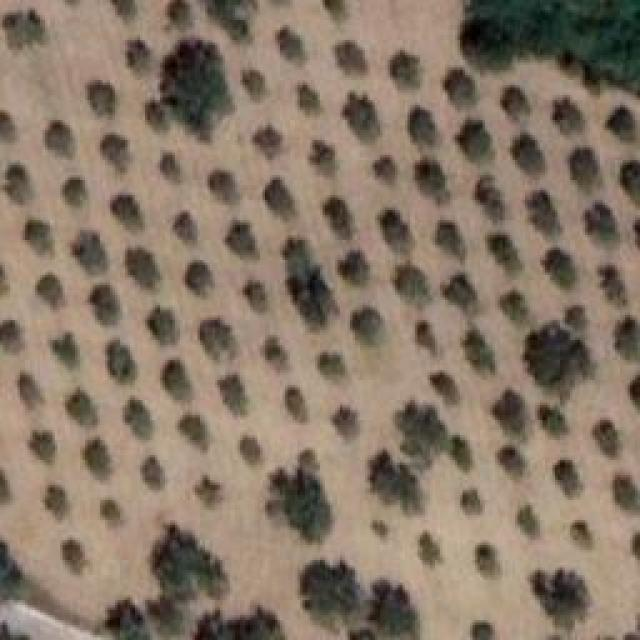Tree: (462, 0, 640, 95), (163, 40, 234, 141), (268, 450, 333, 542), (153, 525, 229, 602), (283, 238, 337, 326), (525, 323, 594, 390), (300, 560, 360, 629), (395, 400, 448, 465), (535, 570, 591, 631), (194, 607, 287, 640), (368, 582, 418, 637), (470, 170, 512, 229), (95, 595, 149, 639), (207, 0, 256, 39), (415, 158, 451, 205), (3, 10, 46, 48), (343, 93, 377, 141), (525, 192, 560, 237), (200, 318, 236, 361), (455, 120, 491, 163), (370, 450, 399, 503), (528, 495, 559, 542), (493, 390, 524, 437), (73, 233, 108, 274), (513, 133, 547, 175), (570, 148, 603, 191), (443, 275, 477, 315), (487, 235, 522, 273), (443, 67, 477, 106), (128, 250, 161, 290), (350, 307, 383, 347), (585, 203, 616, 245), (108, 340, 138, 382), (323, 198, 353, 240), (408, 105, 438, 147), (225, 220, 258, 258), (465, 328, 494, 371), (263, 178, 293, 218), (383, 210, 409, 256), (90, 285, 119, 325), (397, 263, 425, 304), (217, 375, 245, 415), (82, 438, 110, 478), (2, 164, 30, 204), (600, 267, 628, 307), (605, 105, 636, 141), (553, 98, 583, 135), (68, 388, 97, 426), (390, 50, 419, 88), (338, 250, 369, 285), (615, 318, 640, 361), (545, 250, 573, 288), (555, 460, 583, 498), (500, 85, 530, 120), (125, 398, 151, 438), (147, 308, 175, 345), (180, 415, 208, 452), (253, 125, 283, 158), (103, 135, 129, 173), (438, 223, 464, 261), (593, 420, 619, 458), (185, 262, 213, 297), (35, 275, 63, 310), (45, 120, 71, 157), (163, 360, 187, 400), (52, 334, 80, 368), (335, 43, 363, 76), (333, 405, 359, 440), (620, 160, 640, 205), (195, 478, 223, 510), (615, 475, 639, 512), (113, 195, 138, 230), (265, 337, 290, 372), (280, 28, 303, 66), (498, 448, 527, 478), (500, 290, 528, 321), (45, 485, 69, 521), (310, 140, 334, 176), (450, 435, 473, 471), (20, 372, 43, 407), (418, 532, 441, 567), (540, 405, 565, 437), (210, 170, 234, 203), (128, 40, 152, 72), (145, 100, 169, 132), (90, 83, 113, 116), (143, 455, 166, 488), (63, 177, 88, 207), (432, 375, 457, 405), (243, 280, 266, 312), (173, 214, 197, 244), (285, 388, 305, 424), (63, 540, 83, 575), (478, 540, 498, 575), (30, 434, 53, 464), (298, 85, 321, 115), (0, 320, 21, 352), (167, 0, 190, 29), (160, 152, 181, 182), (240, 435, 261, 465), (375, 158, 398, 185), (243, 70, 263, 101), (418, 320, 437, 352), (460, 490, 483, 516), (100, 500, 121, 527), (320, 352, 341, 377), (573, 523, 592, 549), (0, 110, 15, 141), (565, 308, 585, 331), (112, 0, 135, 19), (350, 627, 377, 640), (473, 622, 492, 640)
